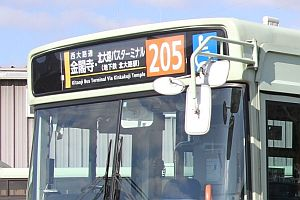destination: (55, 31, 187, 90)
